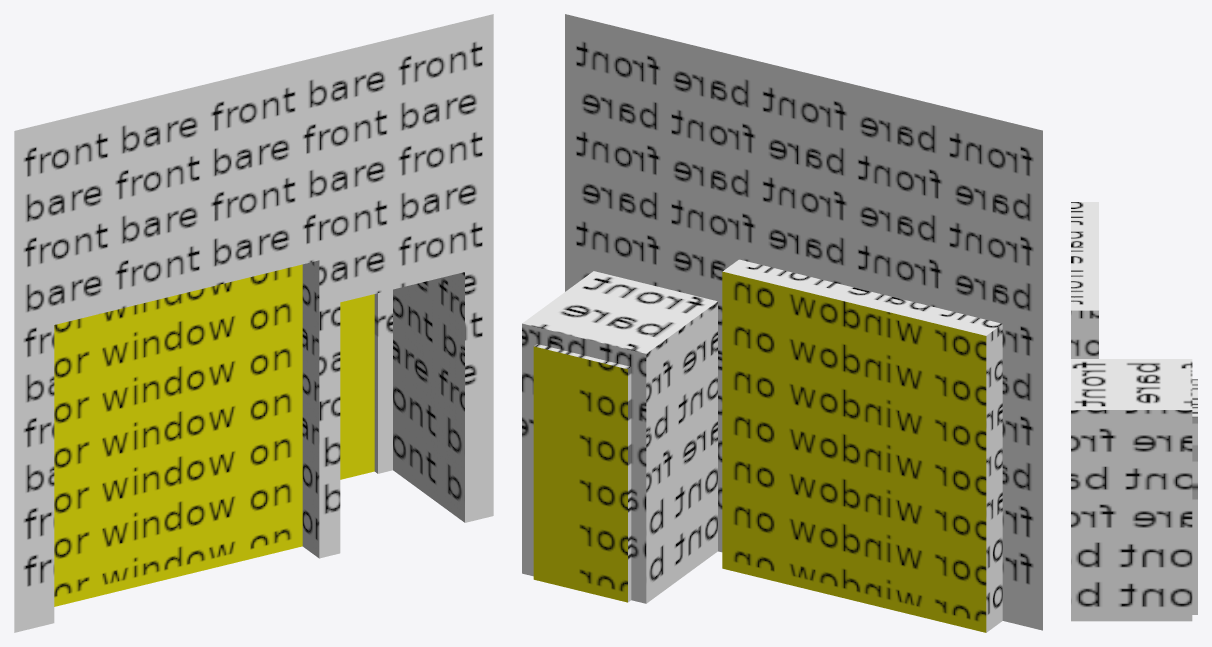
File: door_single_window_on_floor.gltf
3 renders of one model, left to right at view 1: azimuth 30°, elevation 25°; view 2: azimuth 150°, elevation 25°; view 3: azimuth 270°, elevation 25°, orthographic. The views are drawn at different scales.
Parts seen in each view (by area): view 1: door_single_window_on_floor; view 2: door_single_window_on_floor; view 3: door_single_window_on_floor.
Part boxes in pixels (x1,y1,x2,y2): door_single_window_on_floor: (14,14,493,632); door_single_window_on_floor: (522,14,1042,632); door_single_window_on_floor: (1071,202,1197,621).
Size of the model in its own units: 5 by 5 by 1.36.
2 materials, 2 textured.
